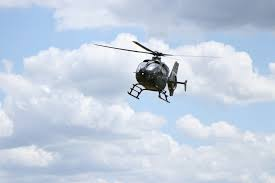heli: (93, 38, 186, 102)
